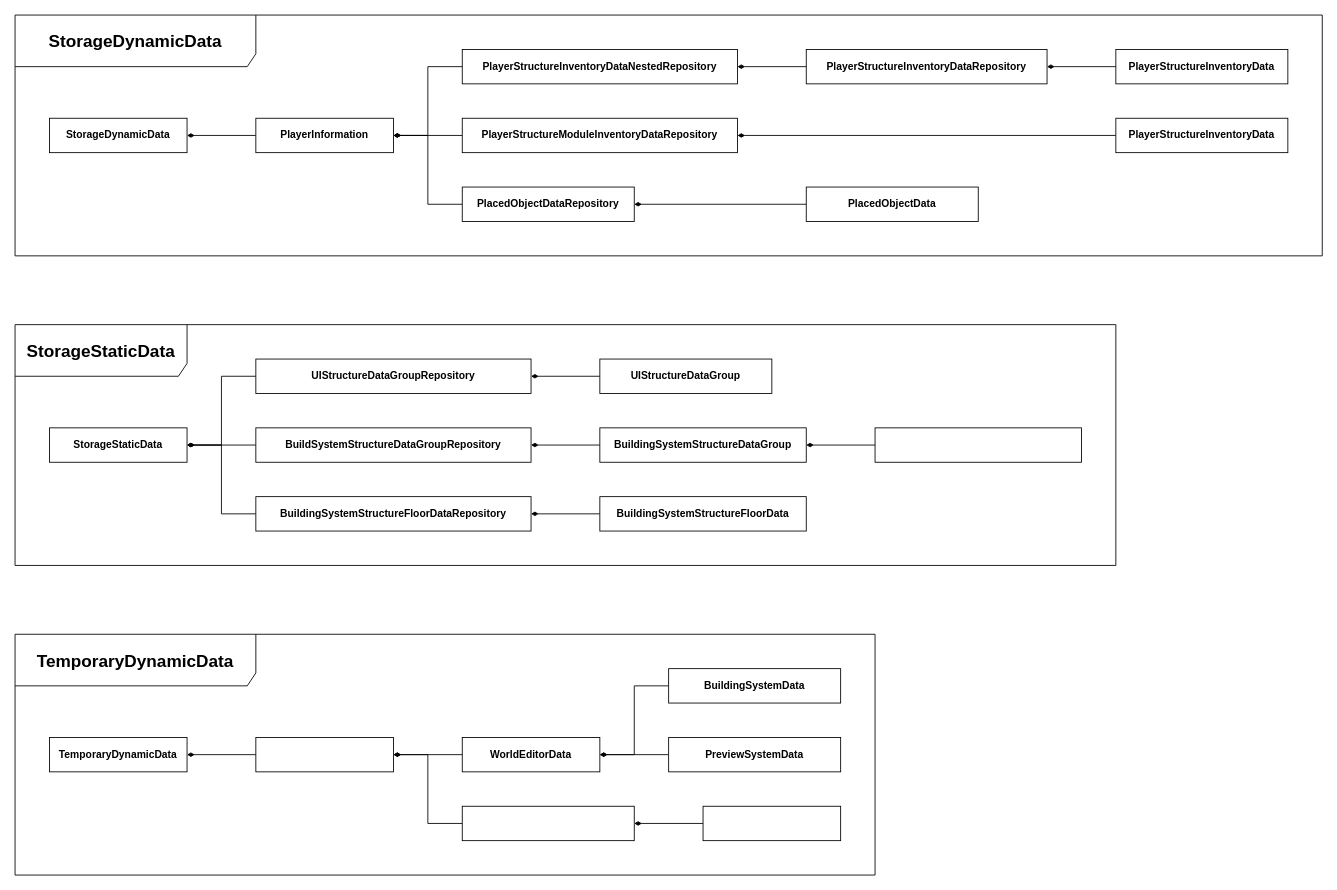
Image size: 1337x890. Some labels were removed from this diagram. The shapes that lost their labels are listed below. From the top down, each one's centre as x and y in pixels, then its label:
[977,444]: BuildingSystemStructureData
[324,754]: IslandSceneData
[547,823]: CoordinatesDataRepository
[771,823]: CoordinatesData
